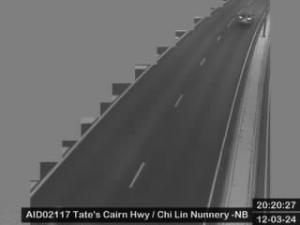vehicle: (238, 9, 254, 25)
